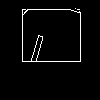L: (25, 25, 65, 77)
